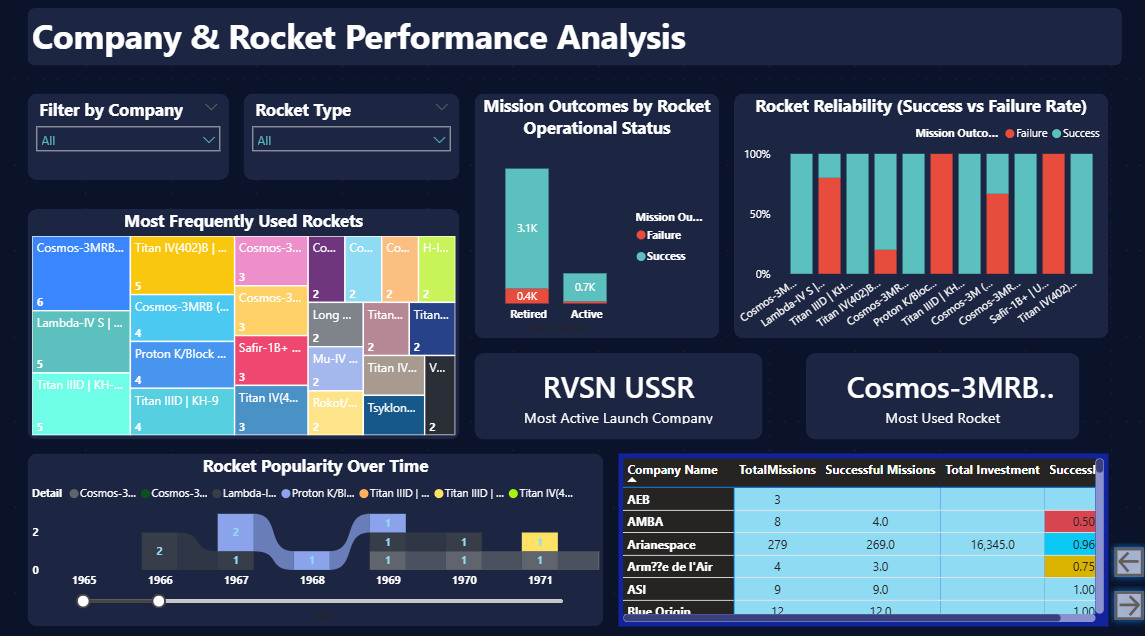

What the dashboard file says about the page in this screenshot:
{"tool":"powerbi","page":{"name":"Company & Rocket Analysis","canvas":[1280,720],"ordinal":1},"visuals":[{"type":"shape","box":[32,16,1216,64],"z":0},{"type":"textbox","box":[32,16,1216,64],"z":1000},{"type":"shape","box":[32,112,224,96],"z":2000},{"type":"slicer","fields":{"Values":["Space_Corrected.Company Name"]},"box":[32,112,224,96],"z":3000},{"type":"shape","box":[272,112,240,96],"z":4000},{"type":"slicer","fields":{"Values":["Space_Corrected.Detail"]},"box":[272,112,240,96],"z":5000},{"type":"shape","box":[32,240,480,256],"z":6000},{"type":"shape","box":[32,512,640,192],"z":7000},{"type":"treemap","title":"Most Frequently Used Rockets","fields":{"Group":["Space_Corrected.Detail"],"Values":["Space_Corrected.TotalMissions"]},"box":[32,240,480,256],"z":9000},{"type":"shape","box":[816,112,416,272],"z":10000},{"type":"hundredPercentStackedColumnChart","title":"Rocket Reliability (Success vs Failure Rate)","fields":{"Category":["Space_Corrected.Detail"],"Series":["Space_Corrected.Mission Outcome Group"],"Y":["Space_Corrected.TotalMissions"]},"box":[816,112,416,272],"z":11000},{"type":"shape","box":[528,112,272,272],"z":12000},{"type":"columnChart","title":"Mission Outcomes by Rocket Operational Status","fields":{"Category":["Space_Corrected.Status Rocket"],"Series":["Space_Corrected.Mission Outcome Group"],"Y":["Space_Corrected.TotalMissions"]},"box":[528,112,272,272],"z":13000},{"type":"ribbonChart","title":"Rocket Popularity Over Time","fields":{"Category":["Space_Corrected.Year"],"Series":["Space_Corrected.Detail"],"Y":["Space_Corrected.TotalMissions"]},"box":[32,512,640,192],"z":14000},{"type":"shape","box":[688,512,544,192],"z":15000},{"type":"pivotTable","fields":{"Rows":["Space_Corrected.Company Name"],"Values":["Space_Corrected.TotalMissions","Space_Corrected.Successful Missions","Space_Corrected.Total Investment","Space_Corrected.SuccessRate"]},"box":[688,512,544,192],"z":16000},{"type":"shape","box":[896,400,304,96],"z":17000},{"type":"shape","box":[528,400,320,96],"z":18000},{"type":"cardVisual","fields":{"Data":["Space_Corrected.Most Active Company"]},"box":[528,400,320,96],"z":19000},{"type":"cardVisual","fields":{"Data":["Space_Corrected.Most Used Rocket"]},"box":[896,400,304,96],"z":20000},{"type":"actionButton","box":[1232,656,48,48],"z":21000},{"type":"actionButton","box":[1232,608,48,48],"z":22000}]}

Visuals, with their boxes in screenshot pixels (x1, y1, x2, y2), scaled from the page's 1280x720 canvas onto the 1145x636 screenshot:
shape: x1=29, y1=14, x2=1116, y2=71
textbox: x1=29, y1=14, x2=1116, y2=71
shape: x1=29, y1=99, x2=229, y2=184
slicer - Space_Corrected.Company Name: x1=29, y1=99, x2=229, y2=184
shape: x1=243, y1=99, x2=458, y2=184
slicer - Space_Corrected.Detail: x1=243, y1=99, x2=458, y2=184
shape: x1=29, y1=212, x2=458, y2=438
shape: x1=29, y1=452, x2=601, y2=622
"Most Frequently Used Rockets" treemap: x1=29, y1=212, x2=458, y2=438
shape: x1=730, y1=99, x2=1102, y2=339
"Rocket Reliability (Success vs Failure Rate)" hundredPercentStackedColumnChart: x1=730, y1=99, x2=1102, y2=339
shape: x1=472, y1=99, x2=716, y2=339
"Mission Outcomes by Rocket Operational Status" columnChart: x1=472, y1=99, x2=716, y2=339
"Rocket Popularity Over Time" ribbonChart: x1=29, y1=452, x2=601, y2=622
shape: x1=615, y1=452, x2=1102, y2=622
pivotTable - Space_Corrected.Company Name x Space_Corrected.TotalMissions: x1=615, y1=452, x2=1102, y2=622
shape: x1=802, y1=353, x2=1073, y2=438
shape: x1=472, y1=353, x2=759, y2=438
cardVisual - Space_Corrected.Most Active Company: x1=472, y1=353, x2=759, y2=438
cardVisual - Space_Corrected.Most Used Rocket: x1=802, y1=353, x2=1073, y2=438
actionButton: x1=1102, y1=579, x2=1144, y2=622
actionButton: x1=1102, y1=537, x2=1144, y2=579
